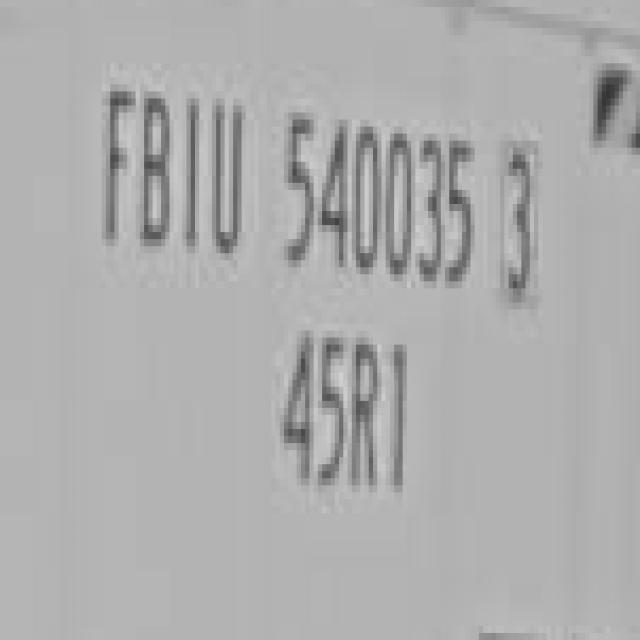dv: (493, 130, 550, 307)
owner: (92, 69, 256, 278)
serial: (280, 92, 479, 308)
size: (269, 326, 424, 505)
